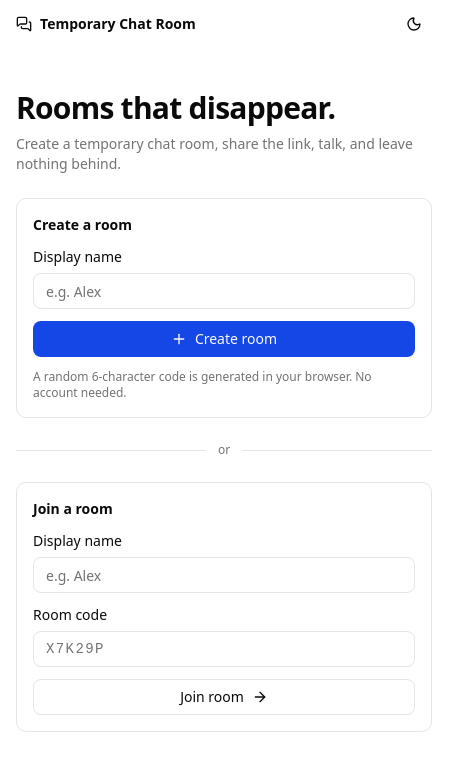
Scenario: HomePage create-room flow › blocks creation with an empty display name
Click the button "Create room" at [224, 339], box [33,321,415,357]
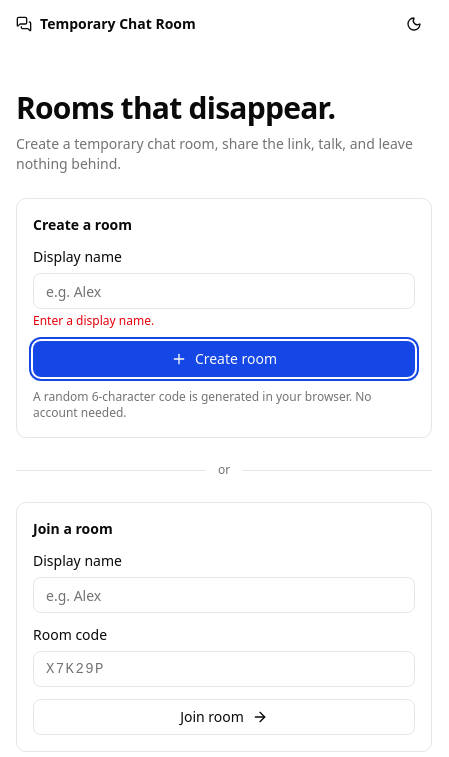
Check: the text "Enter a display name." is shown, box [33,312,154,329]
